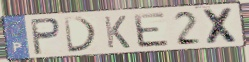2: (171, 10, 202, 46)
D: (62, 16, 100, 54)
E: (131, 11, 172, 49)
K: (102, 15, 132, 50)
P: (28, 16, 62, 56)
X: (201, 7, 242, 46)
